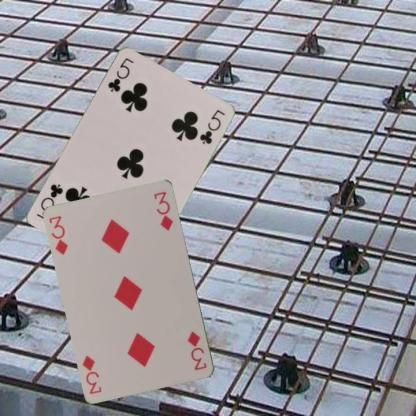3d: (184, 328, 208, 372), (47, 213, 70, 257)
5c: (105, 55, 135, 93)
